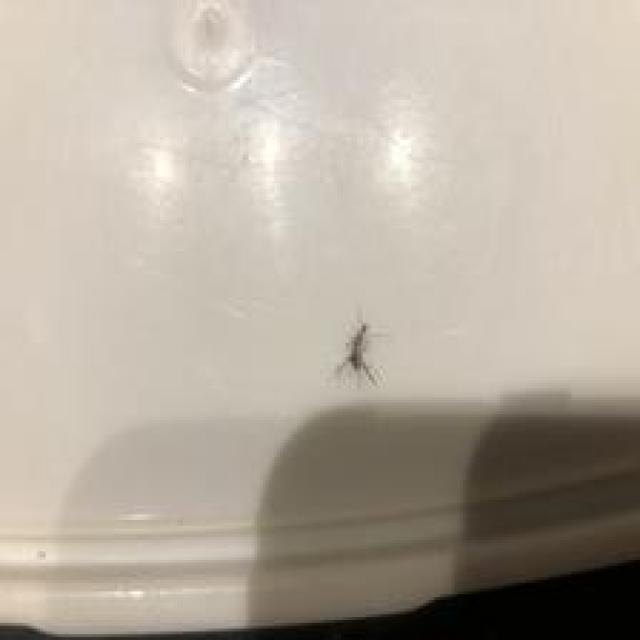Culex: (333, 320, 381, 386)
